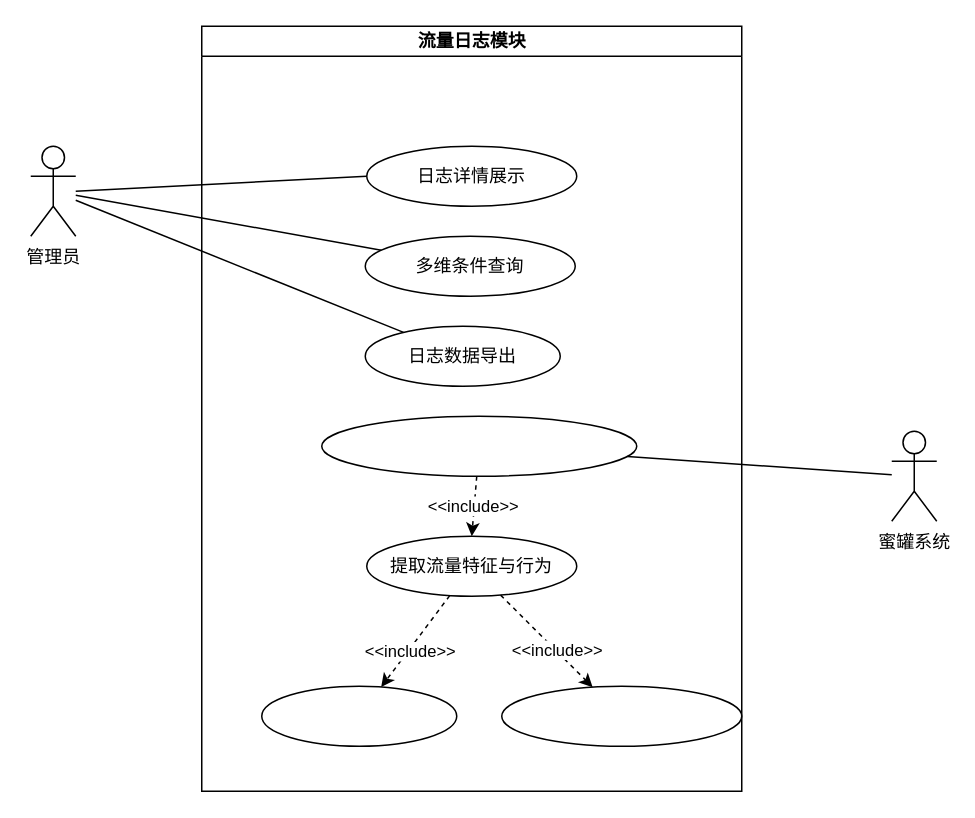
The diagram is 975 pixels wide and 818 high, and some of its shapes have lost their labels. The centre of each missing label's shape, as x and y in pixels:
基于AI Agent的行为分析: point (621, 715)
基于正则引擎的匹配: point (358, 715)
攻击日志采集与结构化存储: point (478, 445)
